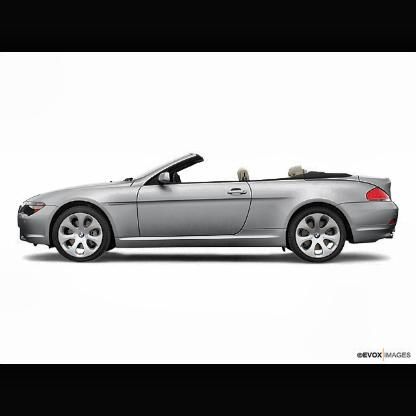BMW 6 Series Convertible 2007: (16, 148, 402, 266)
